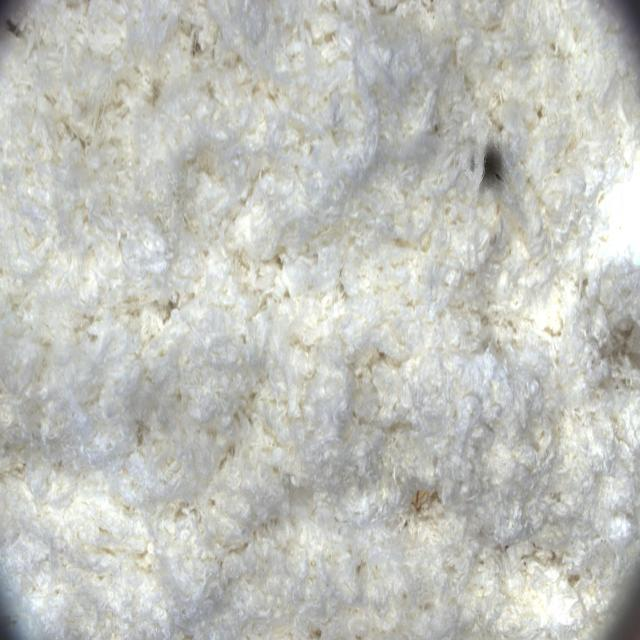dust: (456, 115, 536, 213)
